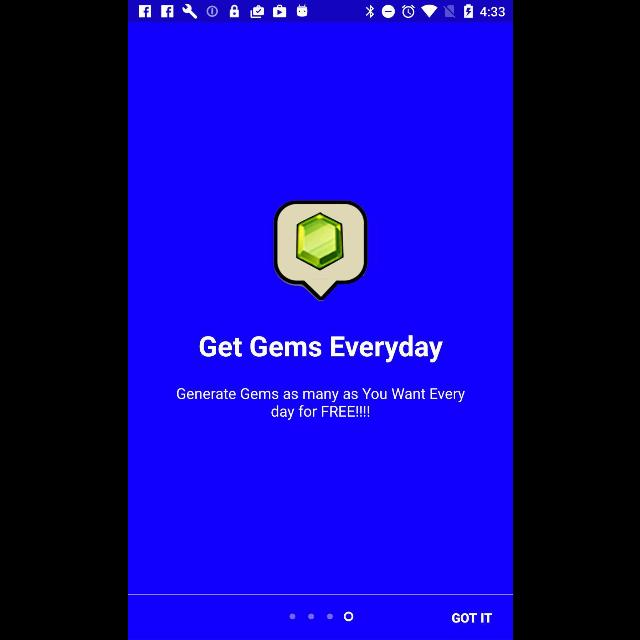image: (273, 200, 367, 302)
pageindicator: (289, 611, 353, 621)
text: (176, 388, 464, 420), (198, 335, 442, 363), (451, 612, 492, 624)
uppertaskbar: (128, 1, 512, 23)
